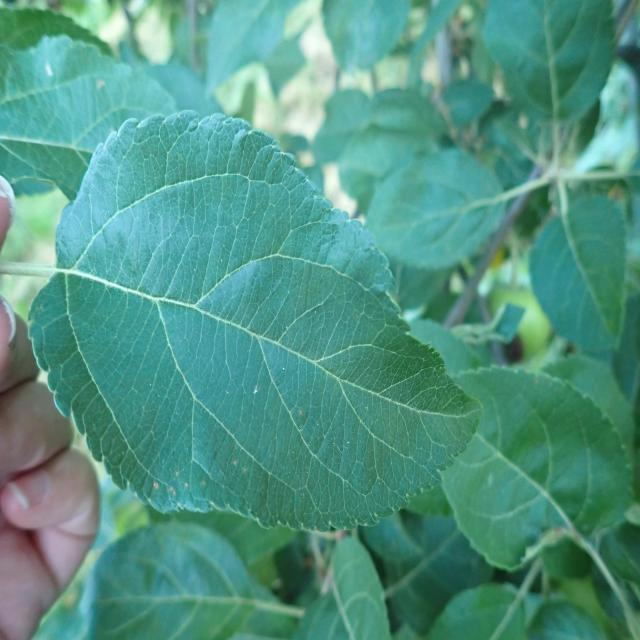healthy: (27, 110, 487, 534), (438, 364, 634, 571), (0, 33, 179, 202), (80, 522, 278, 640), (480, 0, 618, 123), (528, 188, 629, 356), (291, 534, 392, 640)
